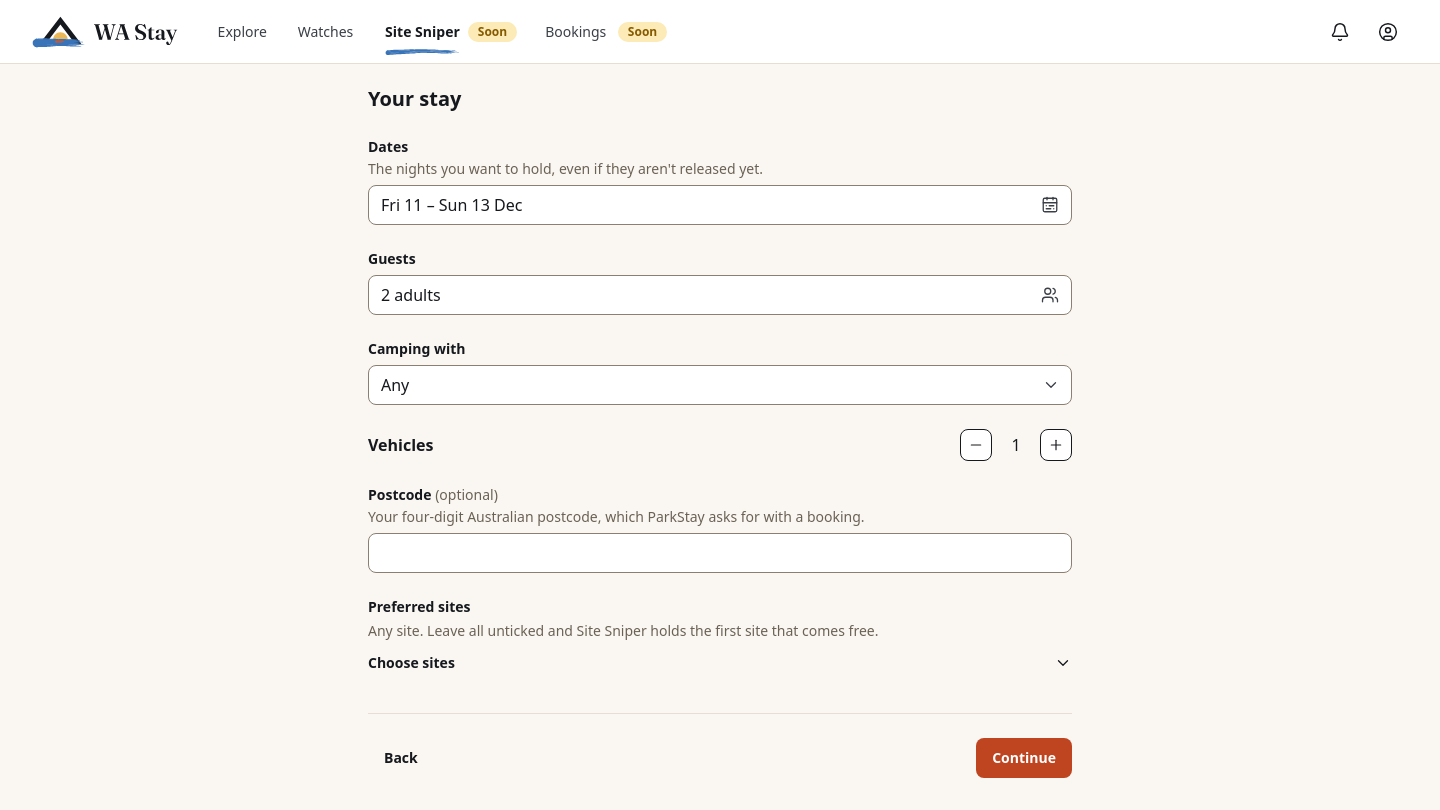
Test: NewSnipePage › lists the place’s units as checkboxes, never a free-text site id
(page scrolled)
Expected: the text "Any site." is shown, [368,621,878,640]
Click the button "Choose sites".
click(411, 662)  # box [368,645,1072,681]
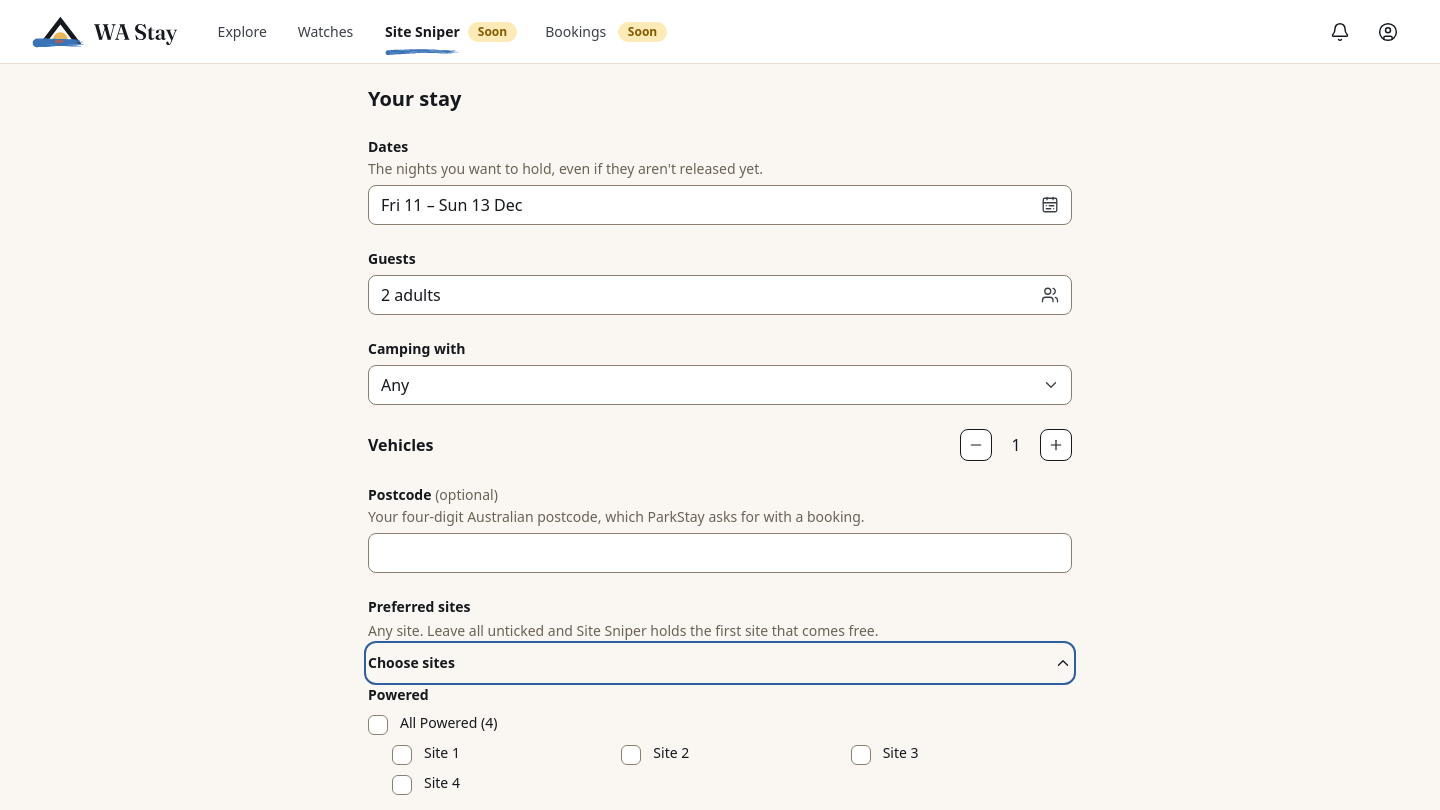
Expected: the field labelled "Postcode (optional)" is shown, [368,533,1072,573]
Now the checkbox labelled "Site 1" is shown, box [392,745,412,765]
